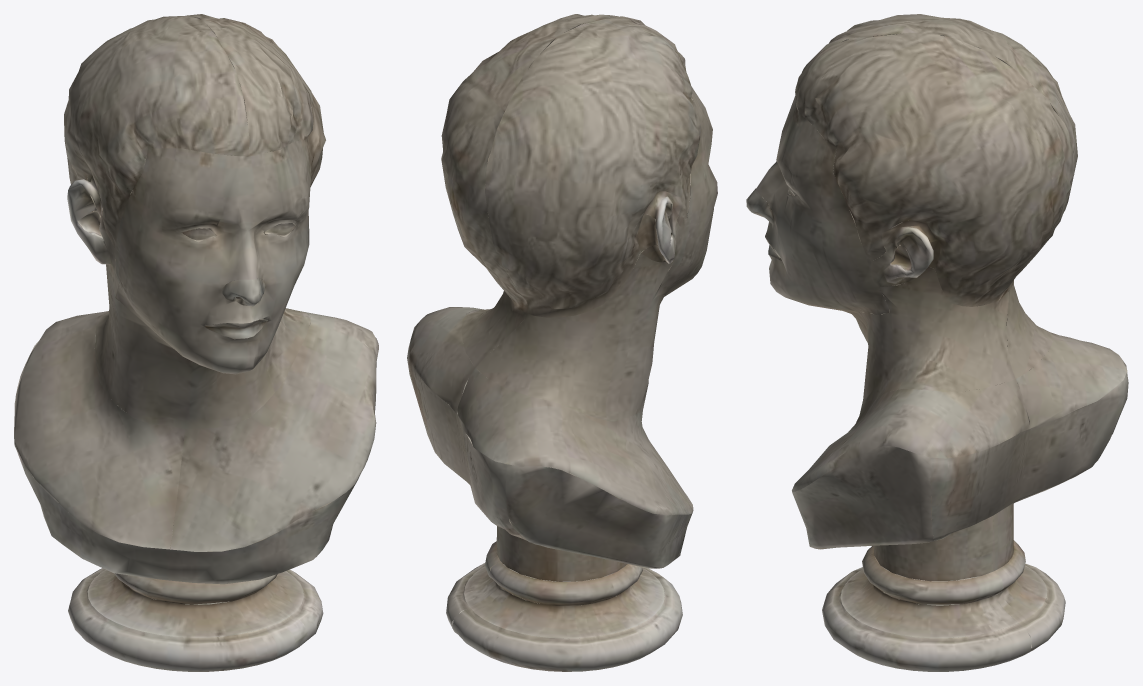
File: bust.glb
The picture shows the model from 3 angles, left to right: view 1: azimuth 30°, elevation 25°; view 2: azimuth 150°, elevation 25°; view 3: azimuth 270°, elevation 25°; orthographic projection. The views are drawn at different scales.
Parts seen in each view (by area): view 1: marble_bust_01; view 2: marble_bust_01; view 3: marble_bust_01.
Boxes of the visible parts, x1,y1,x2,y2 form: marble_bust_01: (14,14,378,671); marble_bust_01: (407,14,717,671); marble_bust_01: (746,14,1128,671).
Bounding box in the file's own units: 0.2716 × 0.5152 × 0.2996.
1 material, 1 textured.
